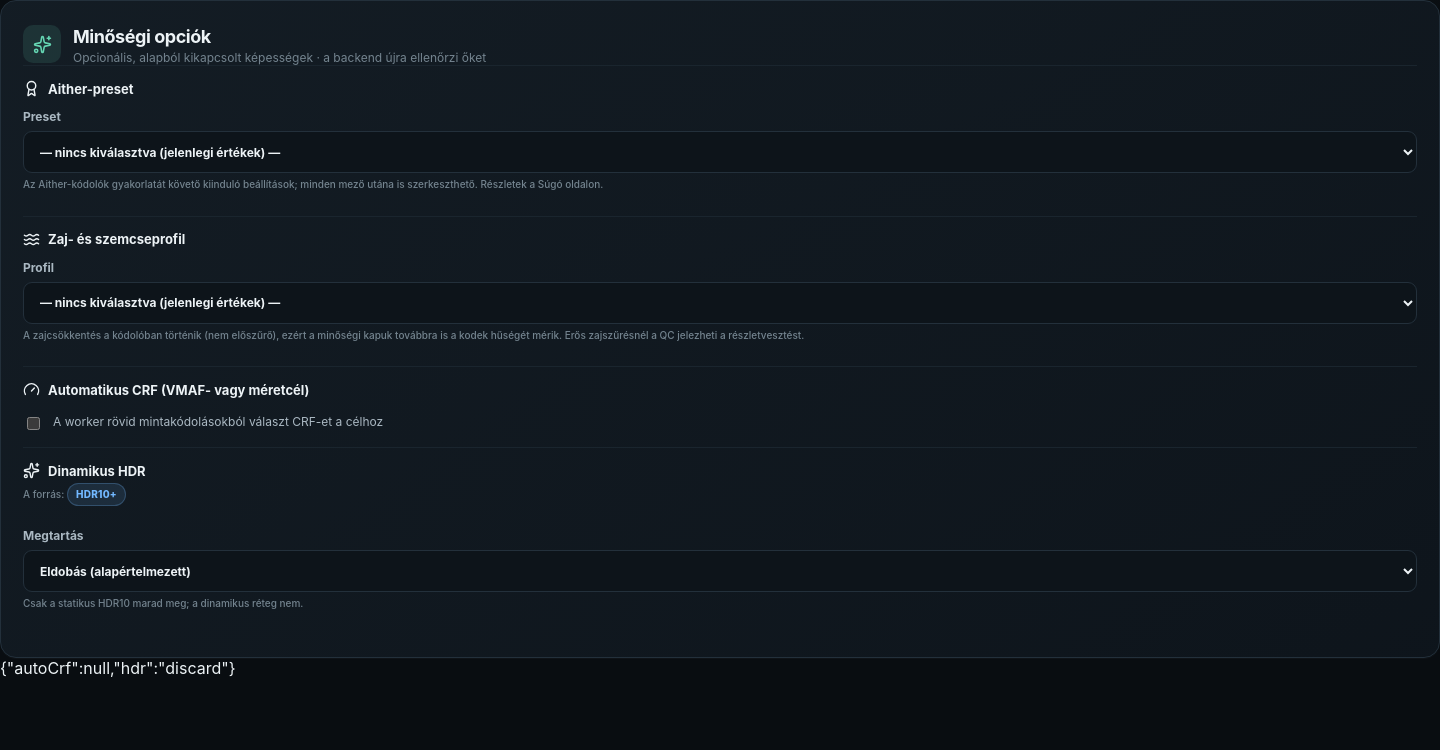
Test: QualityOptions › switches the automatic CRF to a size target and back
The width and height of the screenshot is (1440, 750).
Click the checkbox: {"x": 34, "y": 424} 27,417 -> 40,430
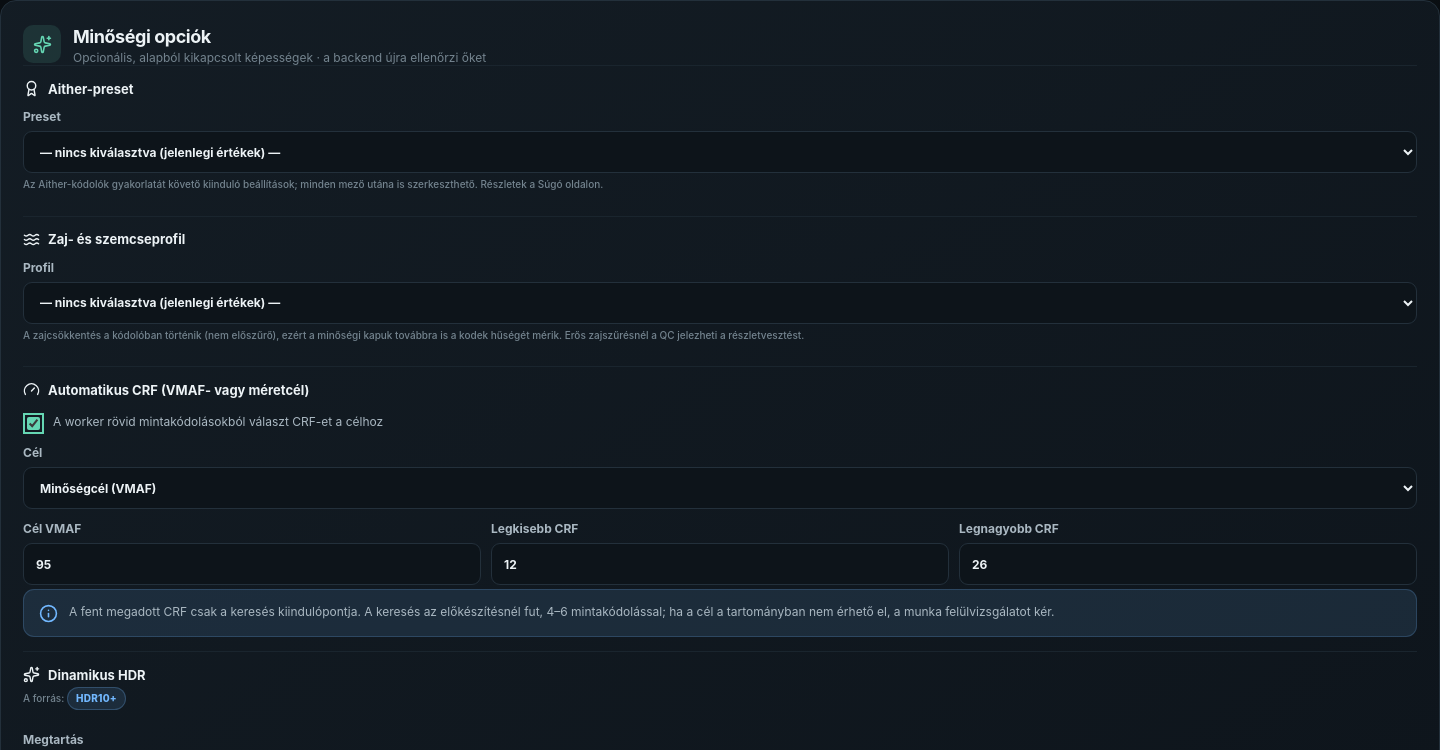
Select "Méretcél (videó, GB)" in the dropdown named "Automatikus CRF célja": {"x": 720, "y": 488} 23,467 -> 1417,509
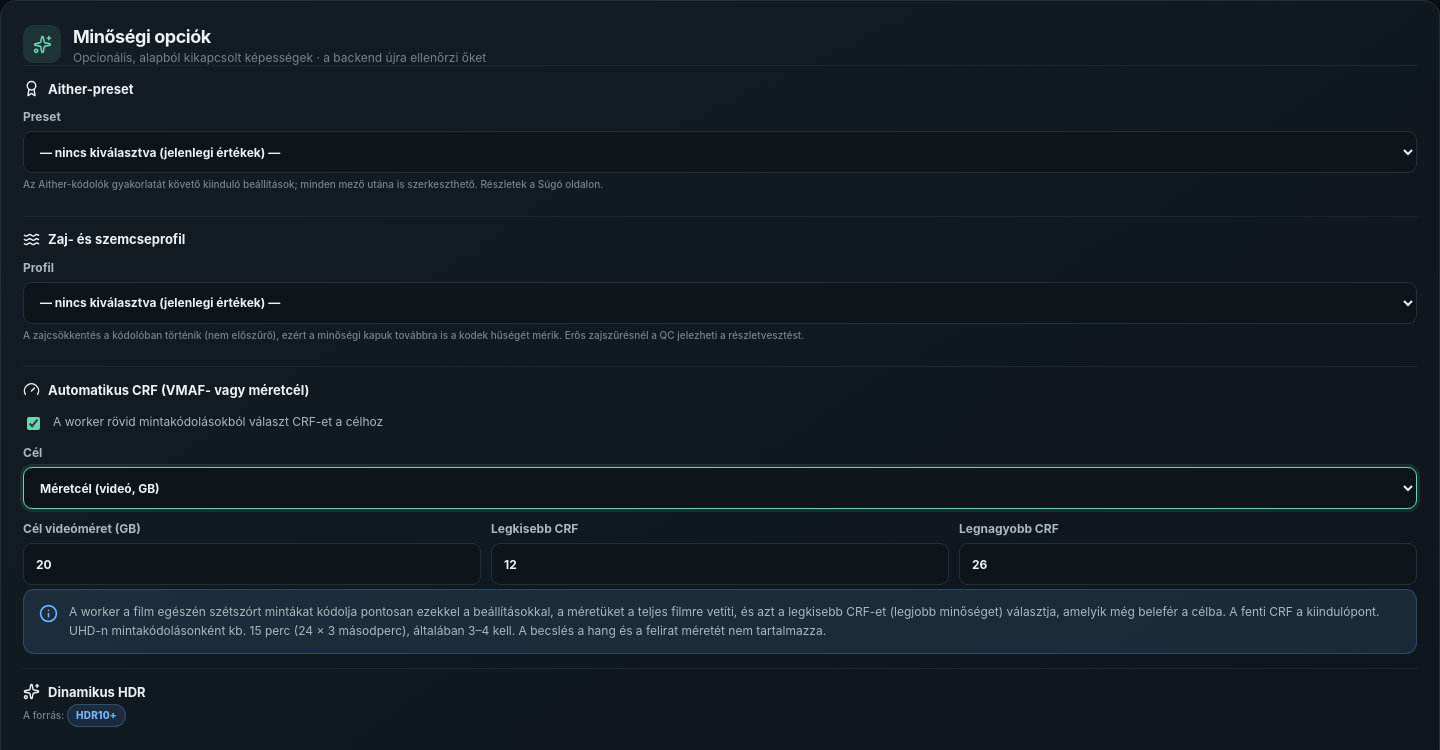
expect the text labelled "Cél VMAF" is gone: met
expect the text "legkisebb CRF-et (legjobb minőséget)" is shown: met, box 69,604 -> 1379,638
Replace the text in the number field labelled "Cél videóméret (GB)" with "24": {"x": 252, "y": 564} 23,543 -> 481,585
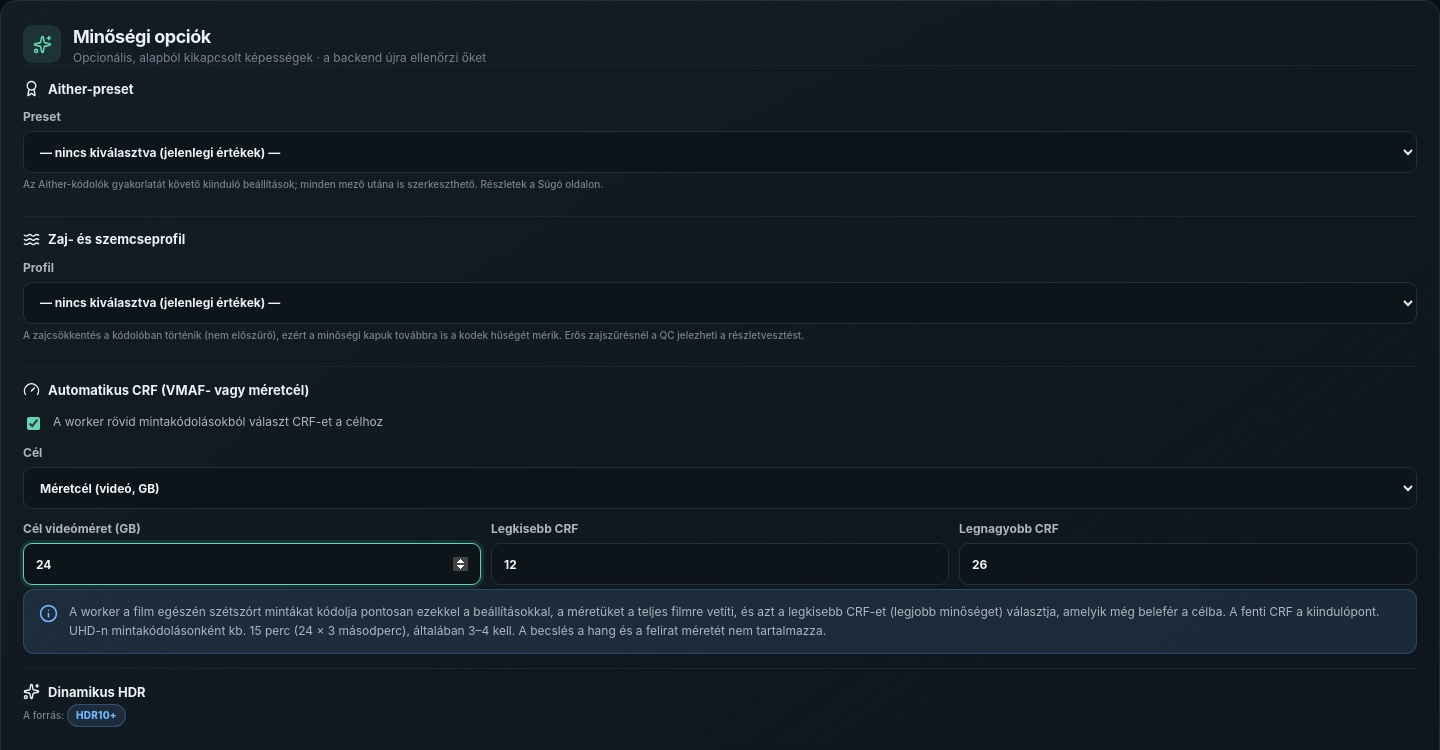
Select "Minőségcél (VMAF)" in the dropdown named "Automatikus CRF célja": {"x": 720, "y": 488} 23,467 -> 1417,509
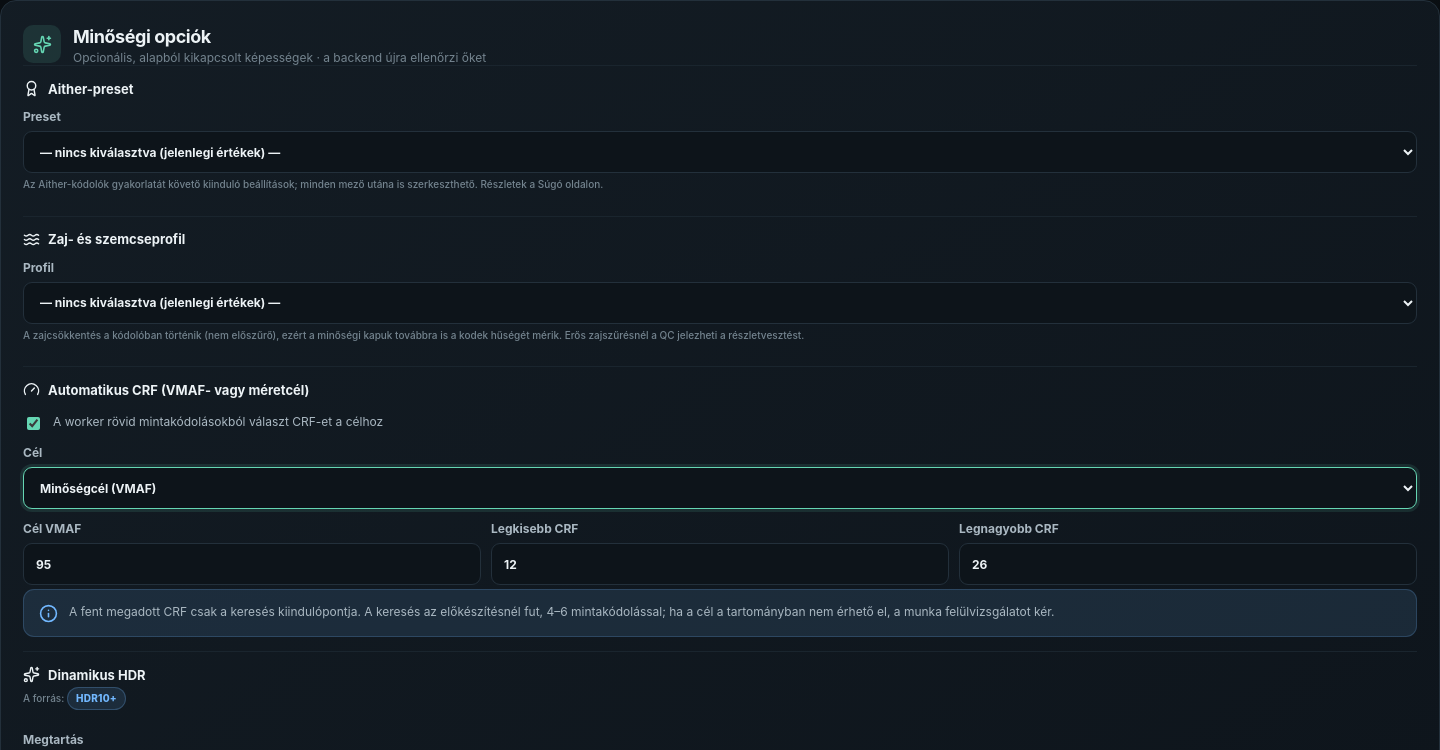
expect the number field labelled "Cél VMAF" is shown: met, box 23,543 -> 481,585
